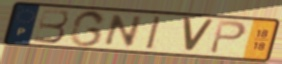B: (32, 8, 71, 45)
G: (67, 9, 108, 49)
I: (145, 14, 164, 51)
N: (101, 13, 146, 48)
P: (208, 19, 249, 56)
V: (180, 16, 216, 54)
